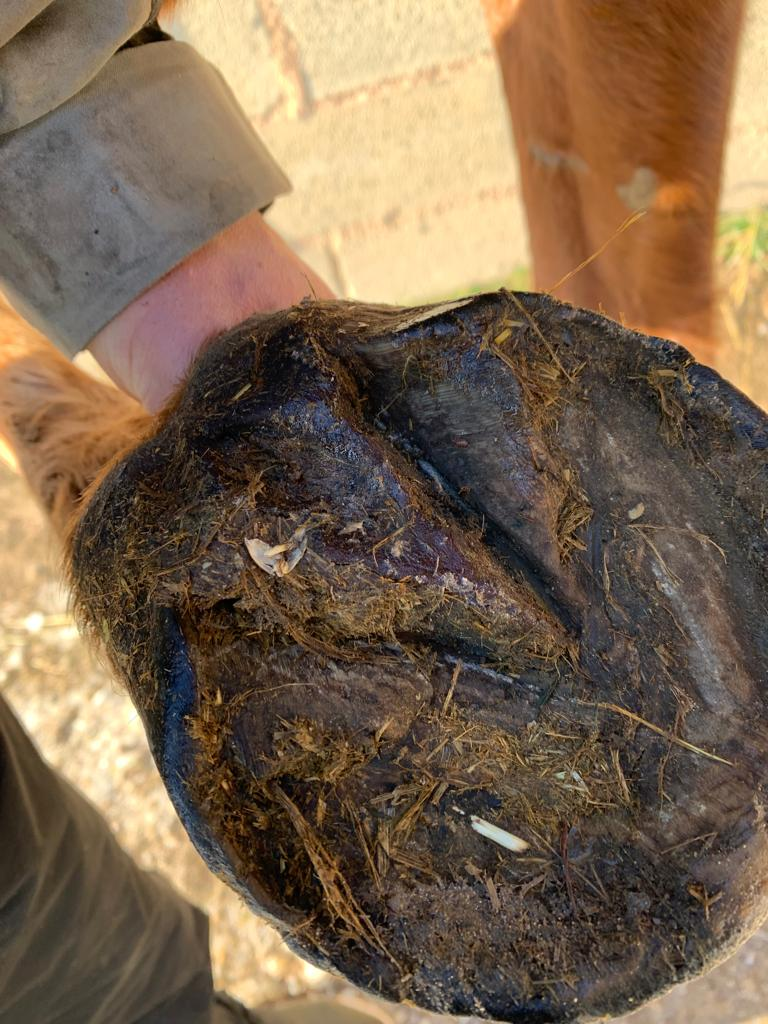horsesole: (155, 292, 768, 1024)
